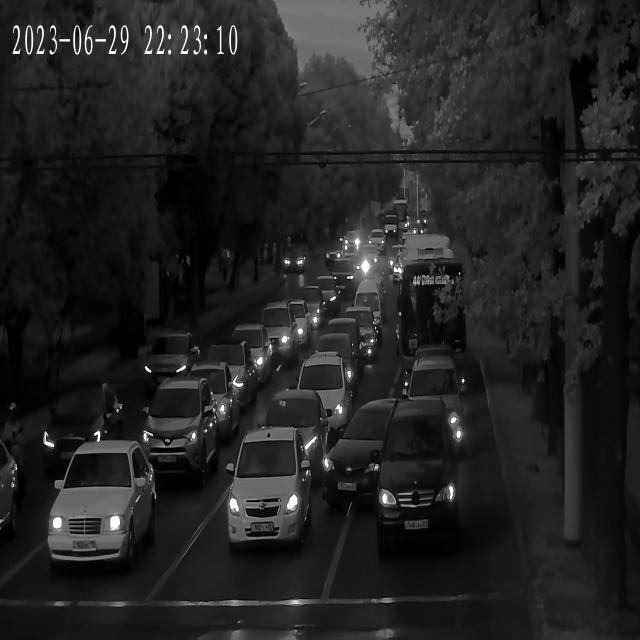Bus: (388, 232, 468, 395)
Car: (51, 440, 157, 570), (372, 402, 460, 538), (221, 428, 314, 551), (139, 380, 220, 481), (243, 394, 330, 480), (276, 354, 358, 436), (390, 366, 460, 462), (39, 386, 124, 464), (171, 365, 239, 422), (402, 352, 465, 409), (139, 330, 201, 386), (220, 328, 276, 383), (200, 343, 255, 397), (252, 306, 305, 362), (317, 320, 373, 371), (331, 302, 382, 358), (306, 333, 365, 379), (408, 343, 464, 387), (340, 290, 384, 341), (282, 287, 328, 332), (0, 427, 17, 545), (302, 275, 341, 311), (323, 259, 360, 292), (280, 251, 304, 273)
